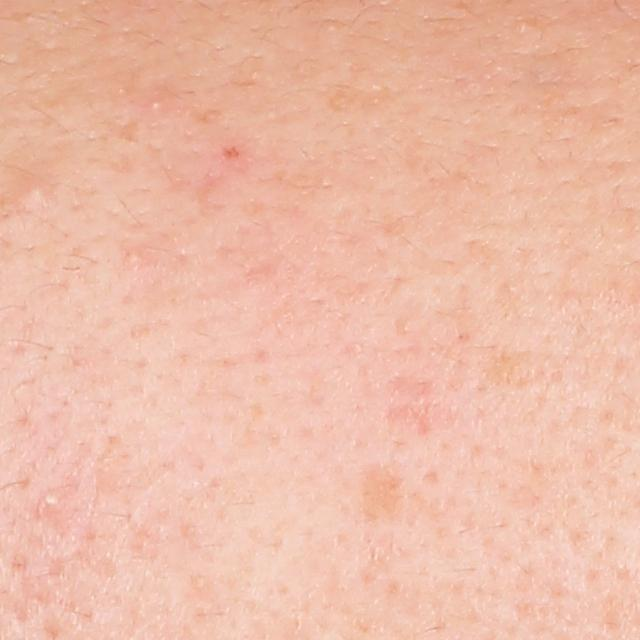comedo: (17, 177, 47, 202), (142, 92, 167, 113)
